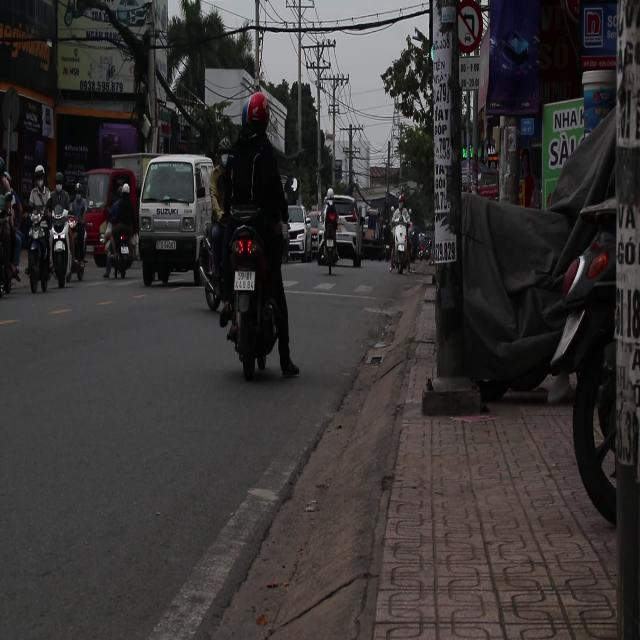car: (320, 193, 365, 267), (287, 204, 308, 261)
motorbike: (227, 220, 289, 401), (24, 214, 59, 294), (54, 210, 88, 288), (102, 224, 138, 280), (321, 221, 341, 273), (393, 221, 407, 280)
truck: (135, 152, 215, 286), (91, 154, 161, 270)
